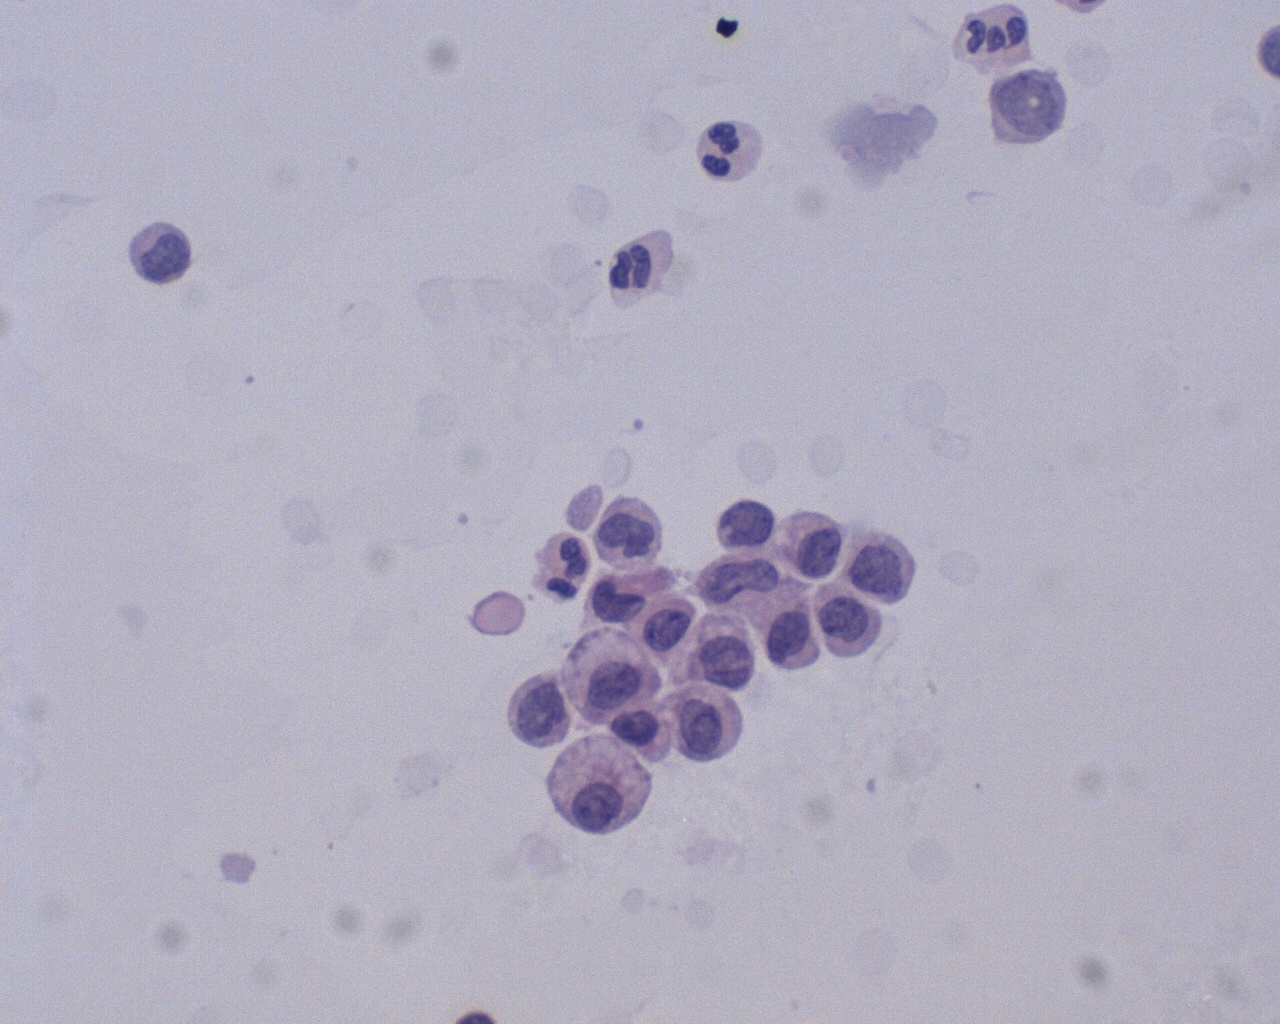ab: (749, 584, 833, 683), (501, 664, 580, 757), (848, 518, 931, 607), (681, 611, 770, 688), (811, 577, 887, 661), (779, 504, 853, 582)
histo: (537, 732, 665, 840)
neutro: (686, 108, 769, 188), (529, 531, 594, 611)
